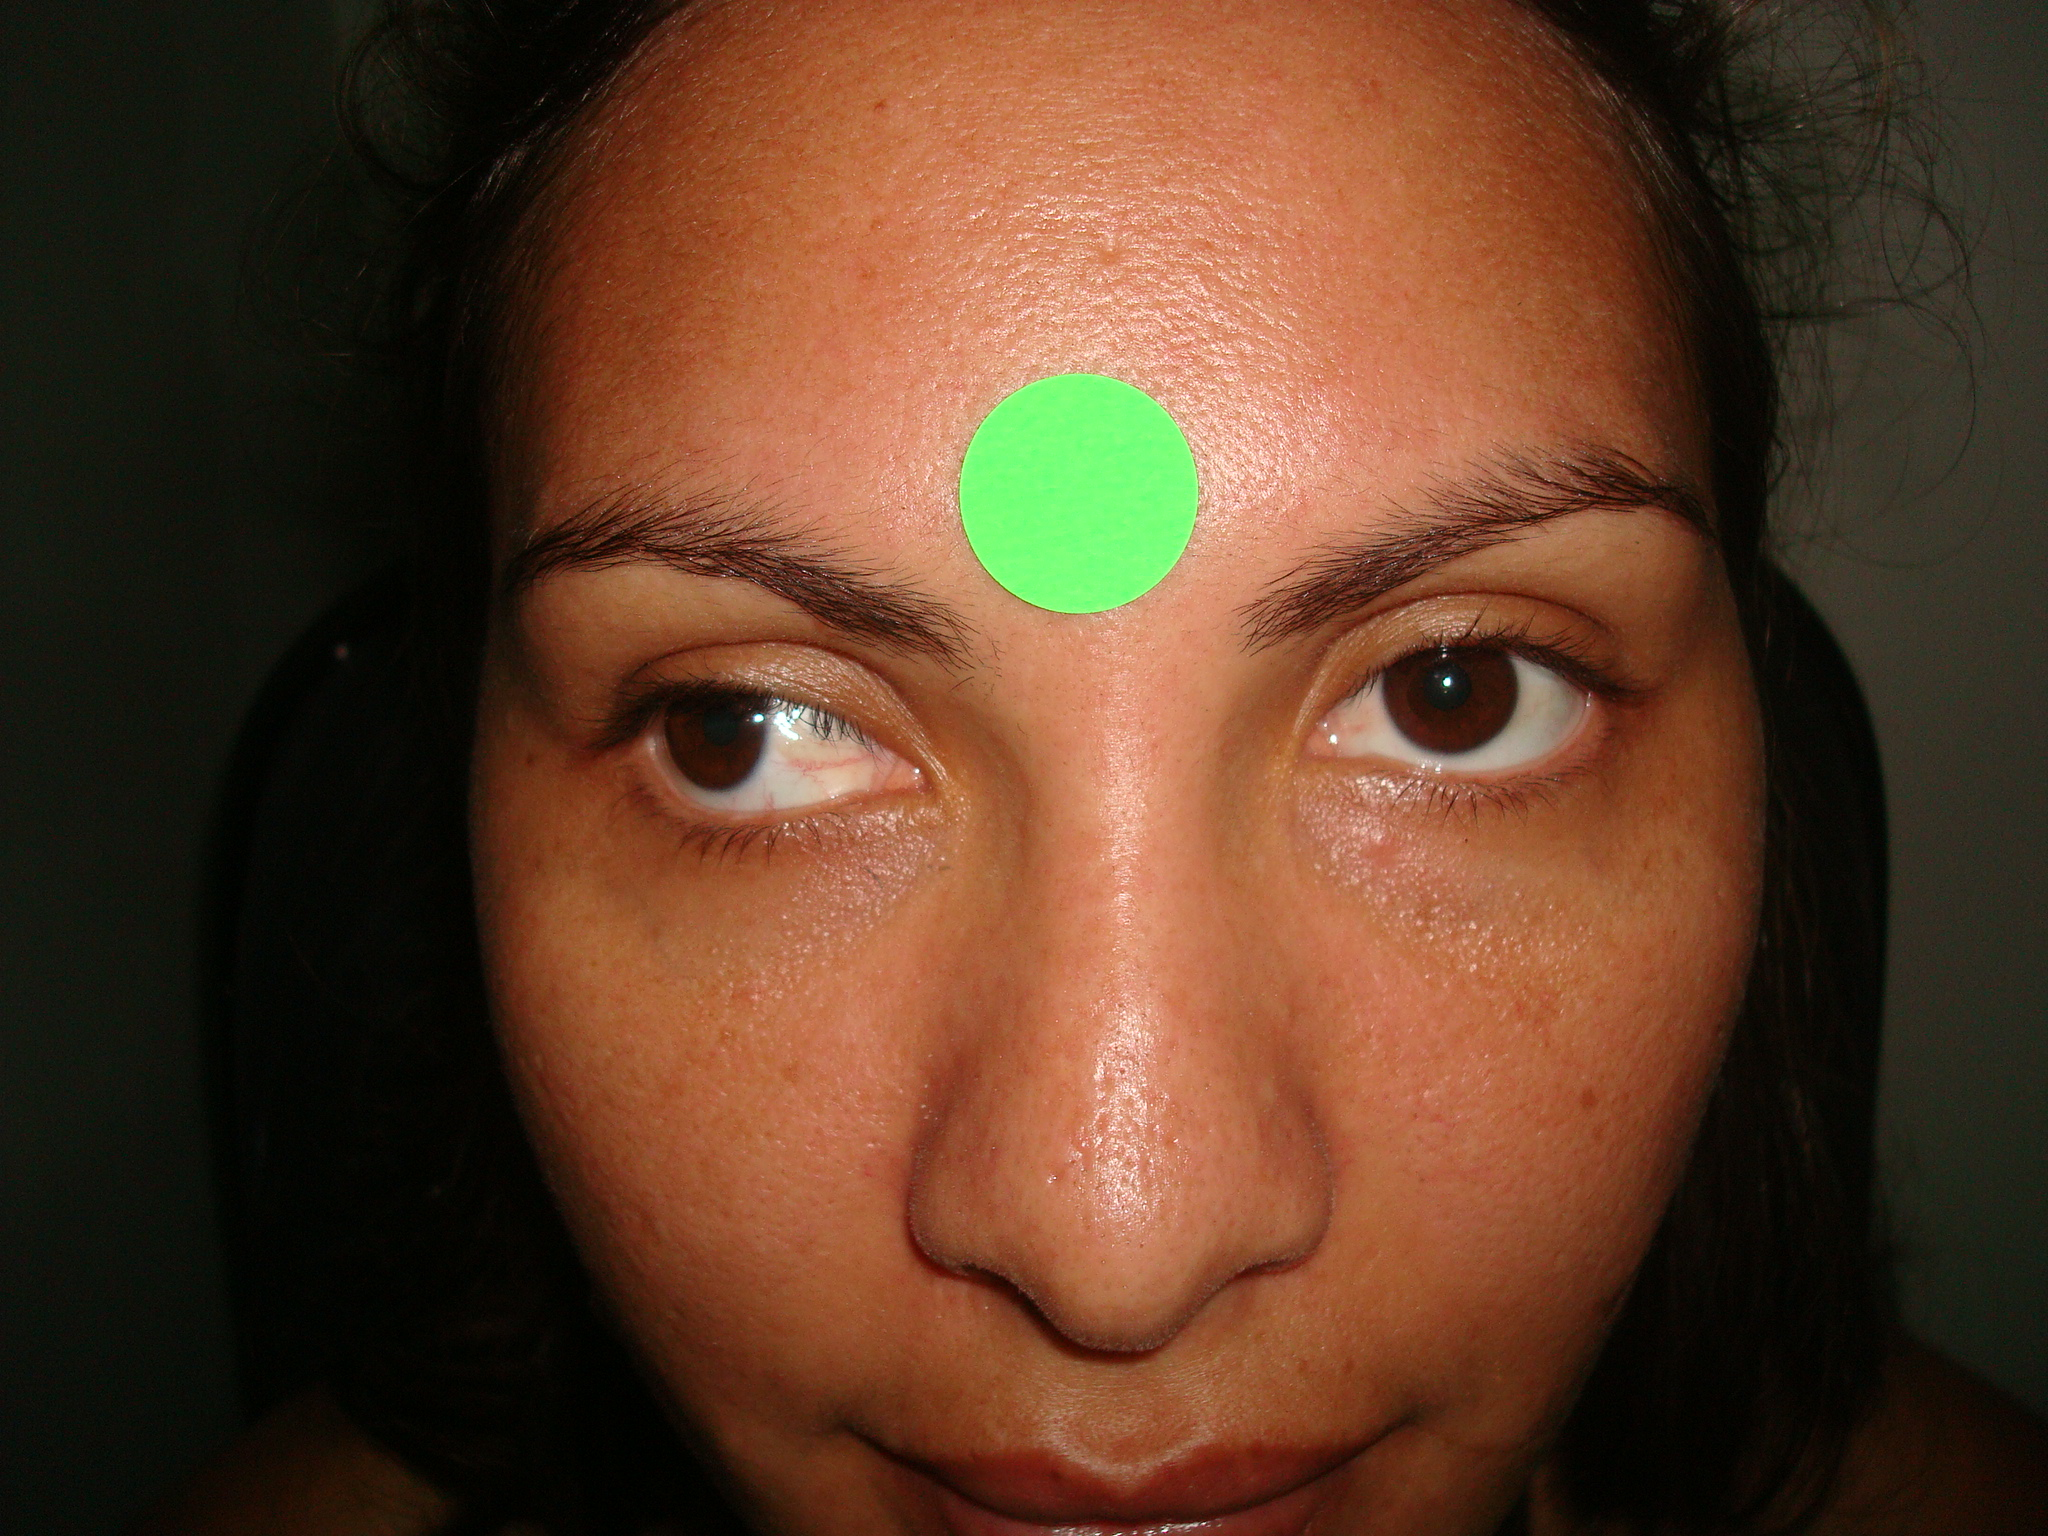flash: (751, 712, 764, 726), (1442, 676, 1453, 689)
limbo: (1384, 621, 1511, 752), (664, 662, 776, 789)
